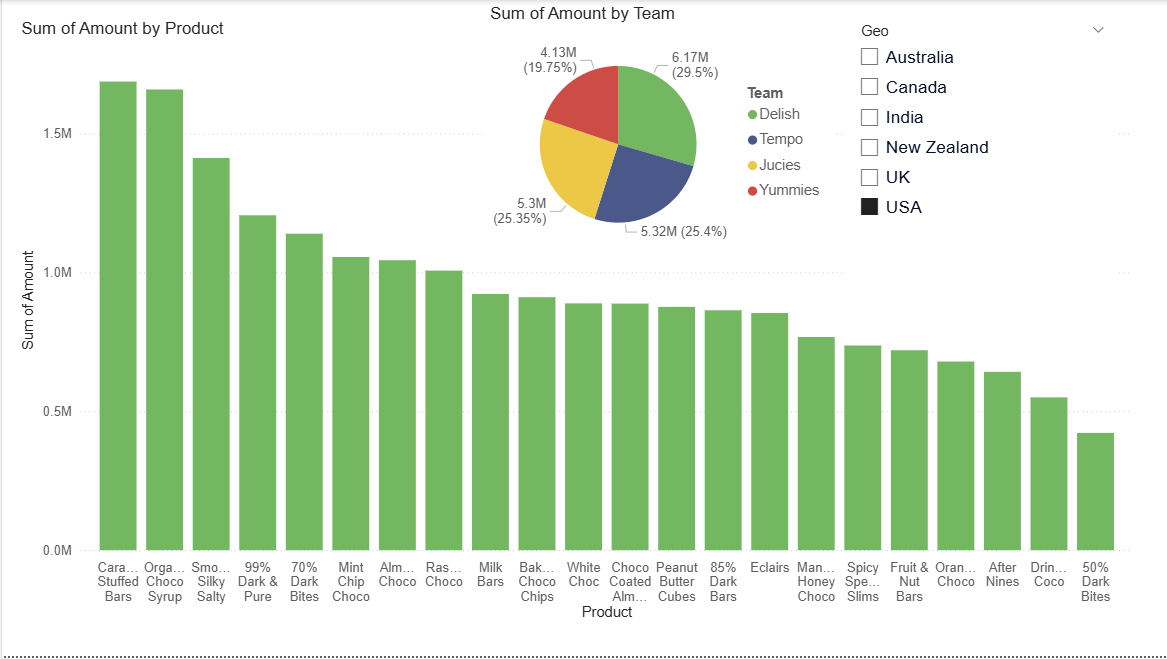

The page's visual inventory and layout, read from the dashboard file:
{"tool":"powerbi","page":{"name":"AMOUNT","canvas":[1280,720],"ordinal":0},"visuals":[{"type":"clusteredColumnChart","fields":{"Category":["products.Product"],"Y":["Sum(shipments.Amount)"]},"box":[11.7,16.7,1238.3,673.3],"z":0},{"type":"slicer","fields":{"Values":["locations.Geo"]},"box":[926.7,16.7,300,300],"z":1000},{"type":"pieChart","fields":{"Y":["Sum(shipments.Amount)"],"Category":["people.Team"]},"box":[526.9,0,388.3,296.4],"z":2000}]}

Visuals, with their boxes in screenshot pixels (x1, y1, x2, y2), scaled from the page's 1280x720 canvas onto the 1167x659 screenshot:
clusteredColumnChart - products.Product x Sum(shipments.Amount): l=11, t=15, r=1140, b=632
slicer - locations.Geo: l=845, t=15, r=1118, b=290
pieChart - Sum(shipments.Amount) x people.Team: l=480, t=0, r=834, b=271
